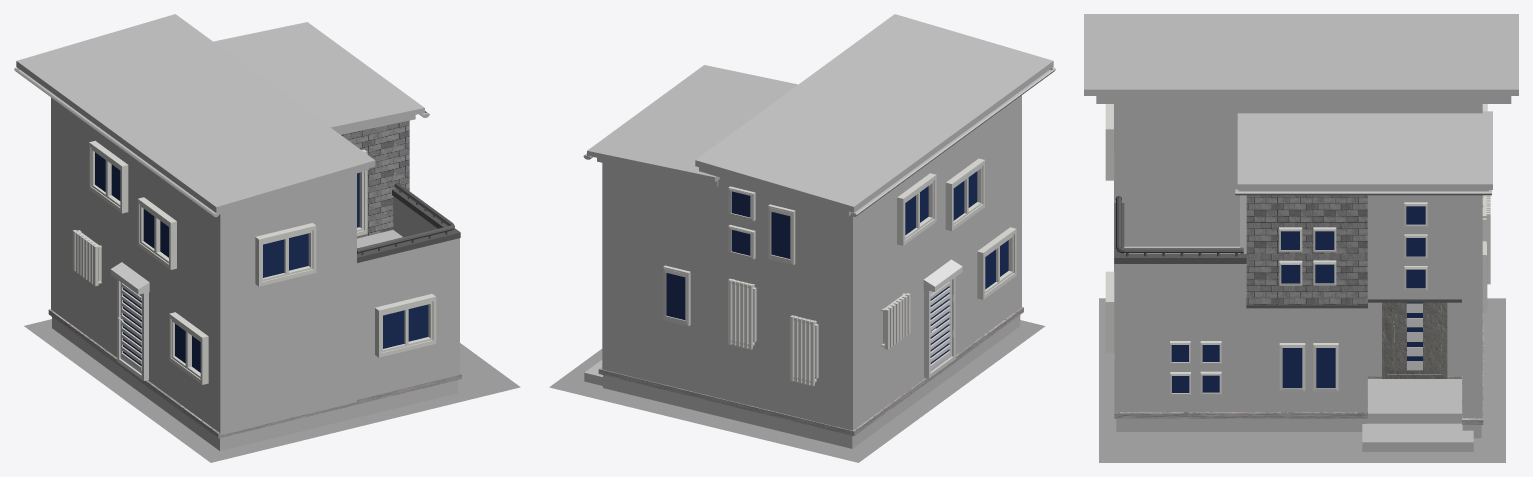
The model's file is House007_middle.fbx.
3 renders of one model, left to right at view 1: azimuth 30°, elevation 25°; view 2: azimuth 150°, elevation 25°; view 3: azimuth 270°, elevation 25°, orthographic. The views are drawn at different scales.
Visible parts, largest first — view 1: pCube81; view 2: pCube81; view 3: pCube81.
Part boxes in pixels (left/top/right/bottom): pCube81: left=14, top=14, right=520, bottom=462; pCube81: left=549, top=14, right=1055, bottom=462; pCube81: left=1084, top=14, right=1518, bottom=462.
Bounding box in the file's own units: 17.54 × 14.43 × 19.35.
